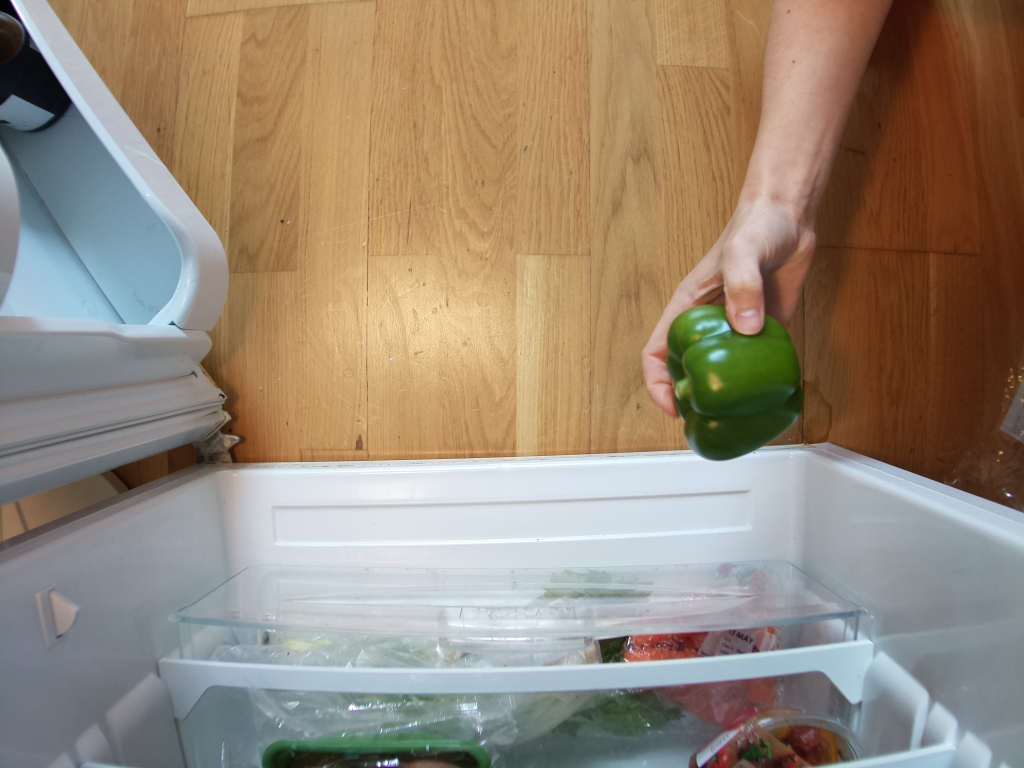pepper: (668, 300, 797, 460)
